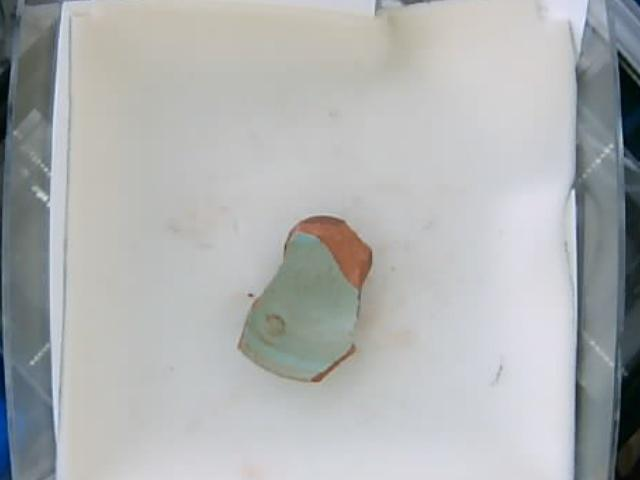China: (237, 212, 368, 380)
